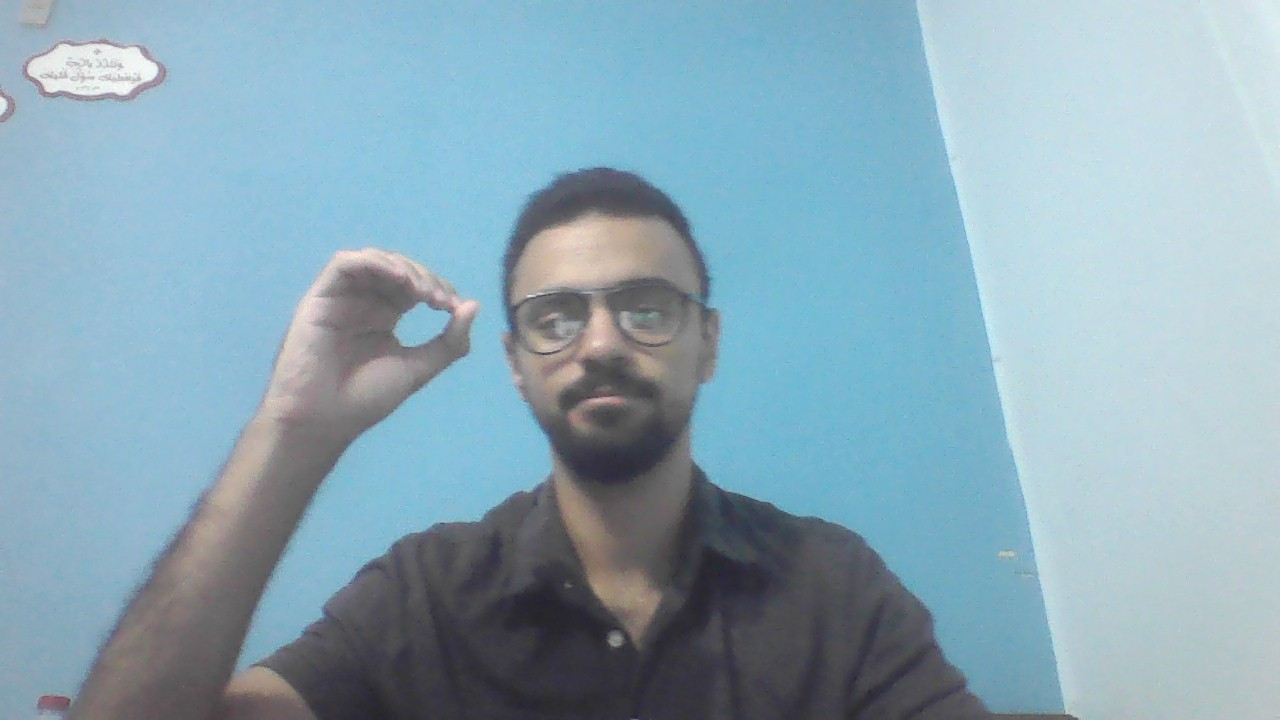okay: (269, 249, 476, 435)
